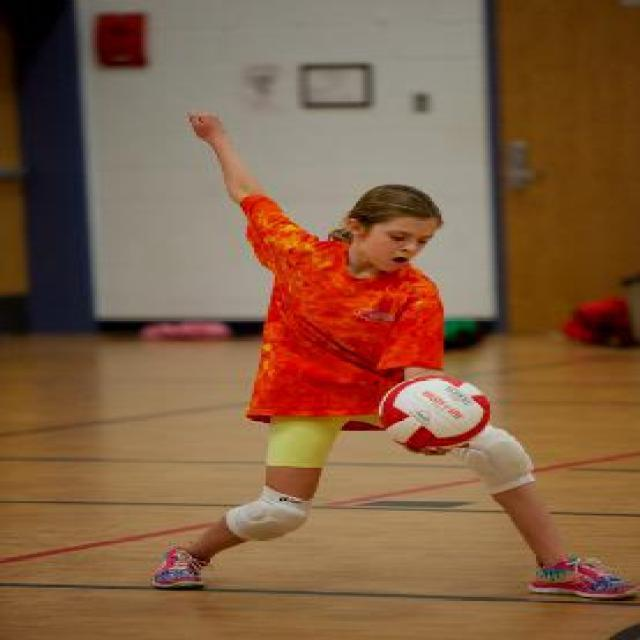volleyball: (378, 373, 492, 450)
